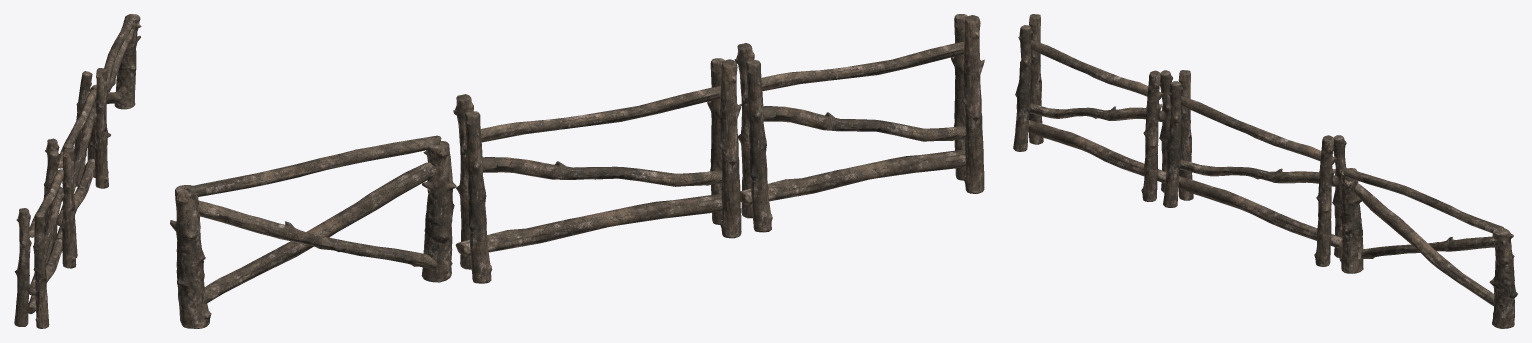
Rendered from SM_Fence_01b_Splines_22.fbx.
The picture shows the model from 3 angles, left to right: view 1: azimuth 30°, elevation 25°; view 2: azimuth 150°, elevation 25°; view 3: azimuth 270°, elevation 25°; orthographic projection. The views are drawn at different scales.
Parts seen in each view (by area): view 1: SM_Fence_01b_Splines_16_LOD0; view 2: SM_Fence_01b_Splines_16_LOD0; view 3: SM_Fence_01b_Splines_16_LOD0.
Boxes of the visible parts, x1,y1,x2,y2 form: SM_Fence_01b_Splines_16_LOD0: (14,14,141,328); SM_Fence_01b_Splines_16_LOD0: (170,14,984,328); SM_Fence_01b_Splines_16_LOD0: (1013,14,1517,328).
Size of the model in its own units: 426 by 500 by 154.
